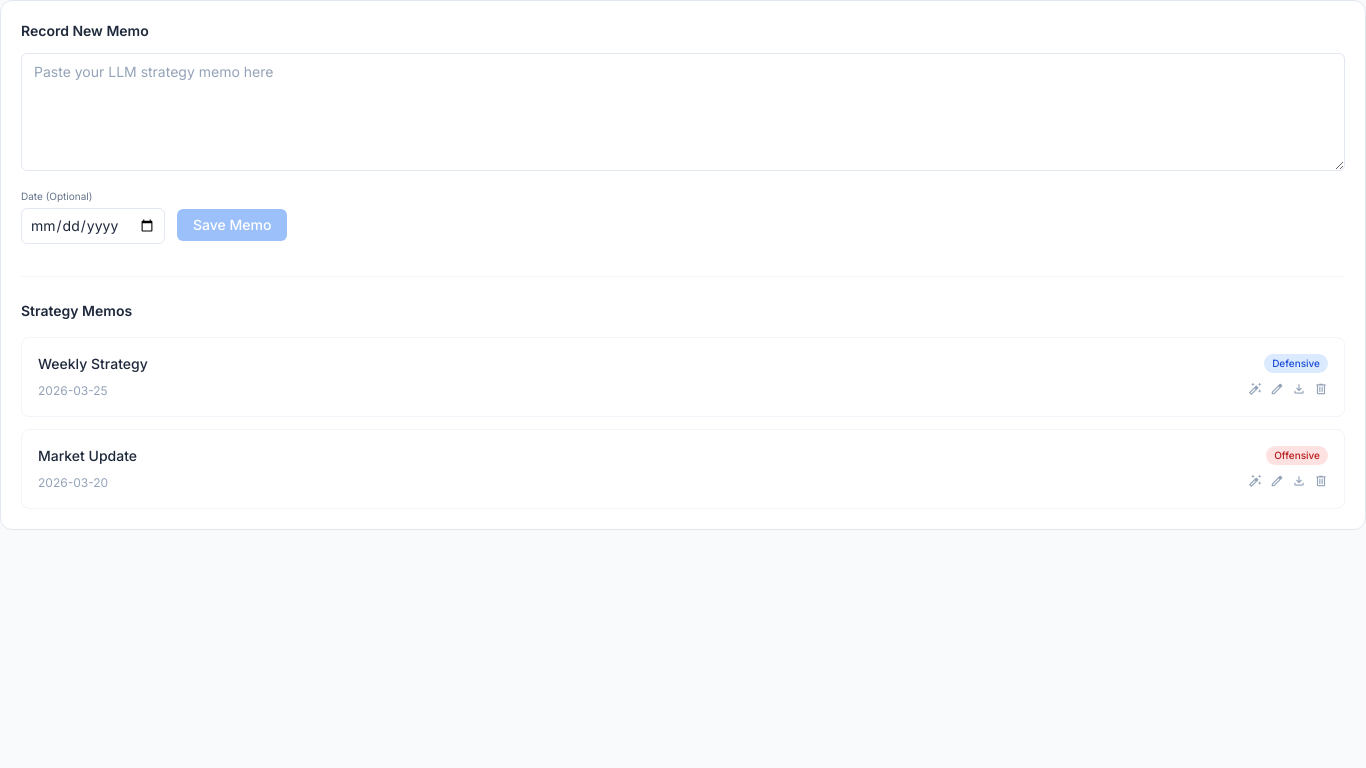
Scenario: MemoManager › shows an inline error when deleting fails
The image size is (1366, 768).
expect the text "Weekly Strategy" is shown: met, box [38,355,148,372]
What coordinates should you click on to do the following:
click the button titled "Delete memo" in the row of "2026-03-25"
I would click on:
 (1321, 391)
Its box is [1314,382,1328,400].
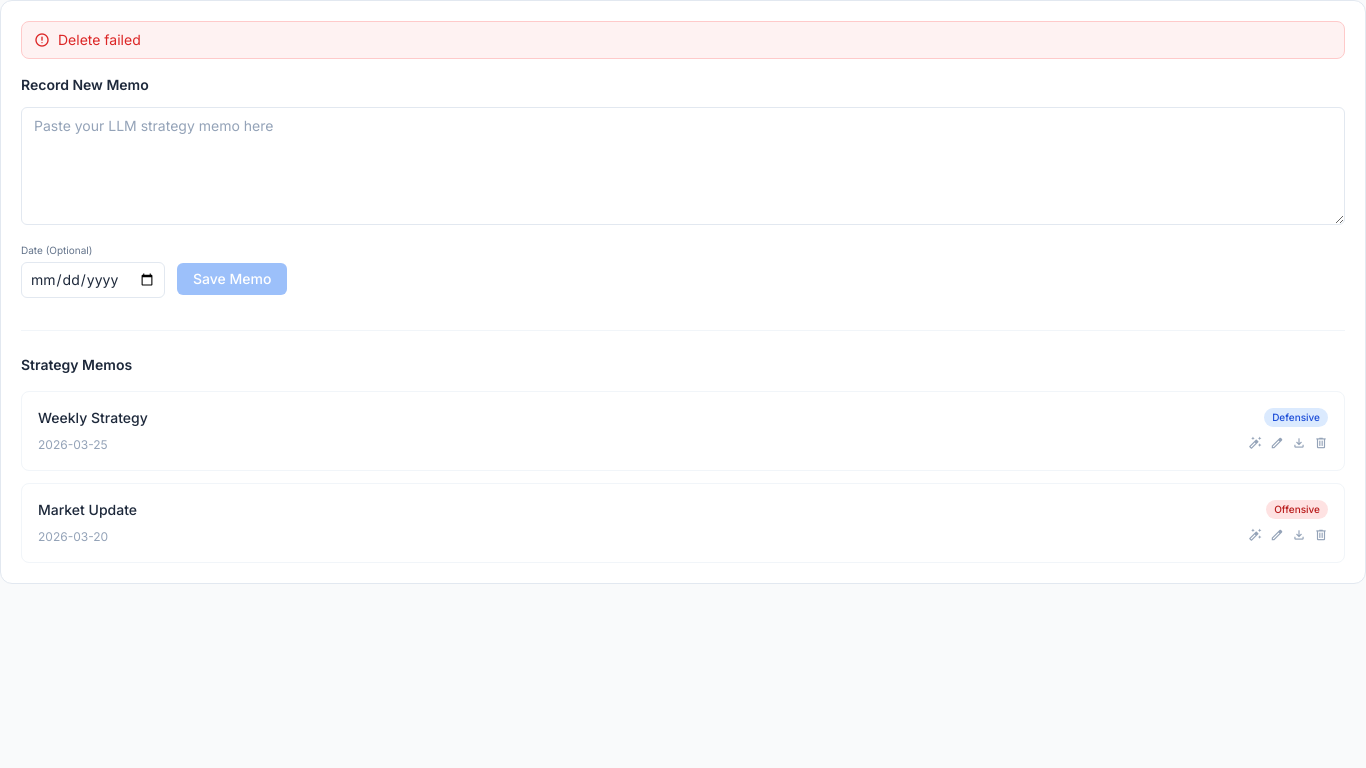
expect the text "Delete failed" is shown: met, box [21,21,1345,59]
